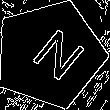N_SW: (17, 22, 83, 87)
